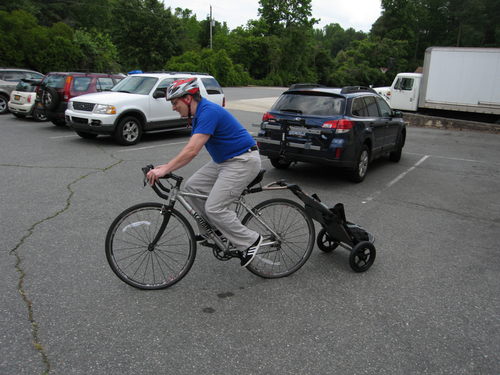bikerider: (102, 69, 388, 312)
